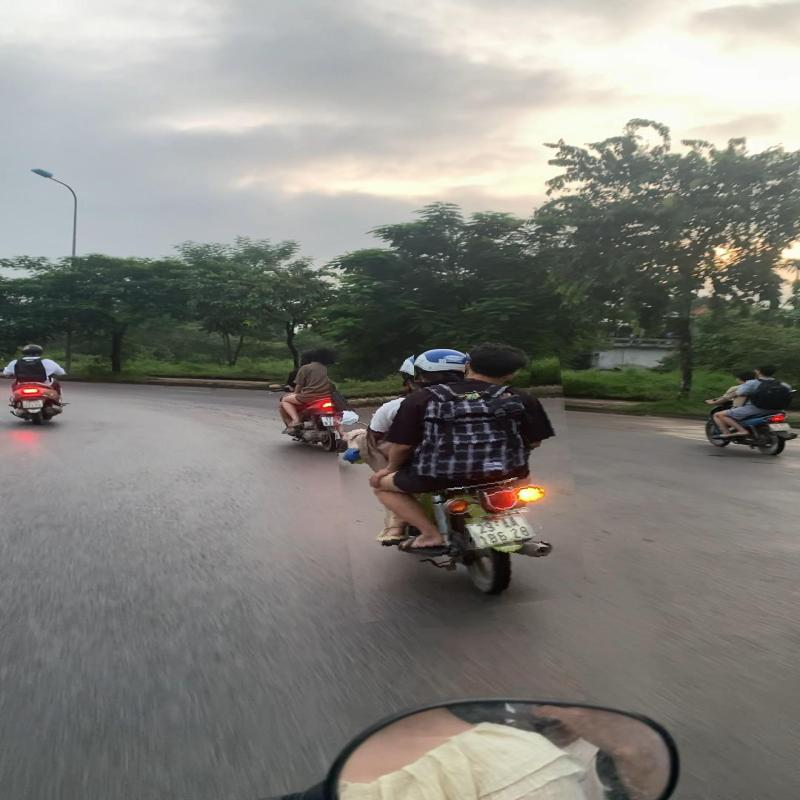helmet: (414, 347, 470, 382)
licenseplate: (464, 512, 540, 548)
motorcyclist: (334, 340, 581, 616)
nohelmet: (466, 341, 532, 387), (312, 346, 340, 364), (752, 363, 780, 379), (733, 370, 758, 384)
